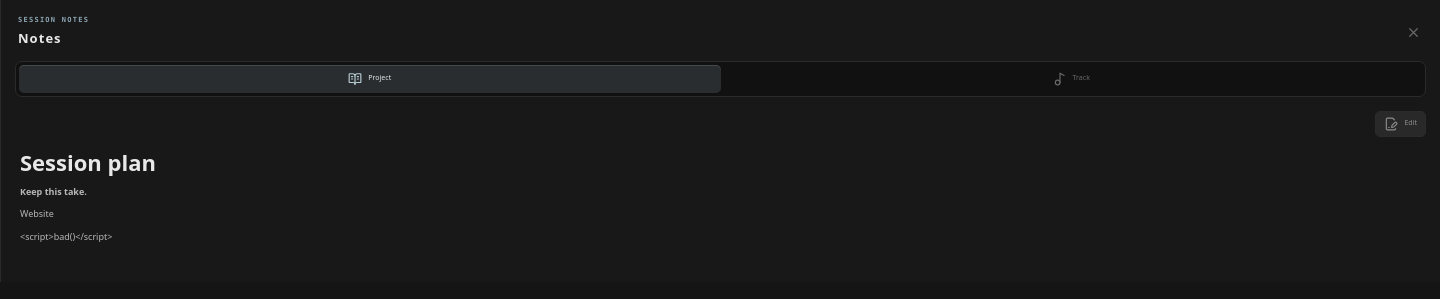
NotesPanel › renders sanitized project Markdown and switches to the selected track notes
Check: the element with test id "markdown-preview" shows "Session plan", box [20, 146, 156, 176]
Check: the text "Keep this take." is shown, box [20, 185, 87, 198]
Click the tab "Track": (1071,78) [720, 64, 1422, 92]
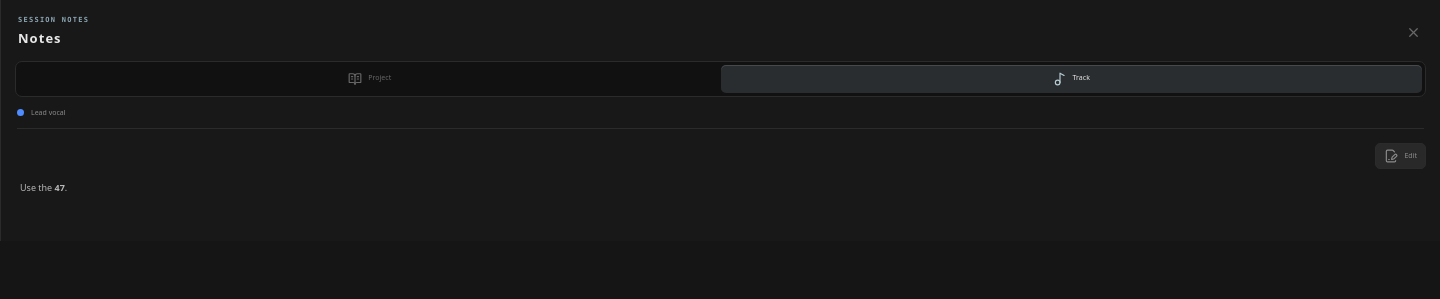
Check: the element with test id "markdown-preview" reads "Use the 47.", box [20, 181, 67, 194]
Check: the text "Lead vocal" is shown, box [31, 108, 66, 118]
